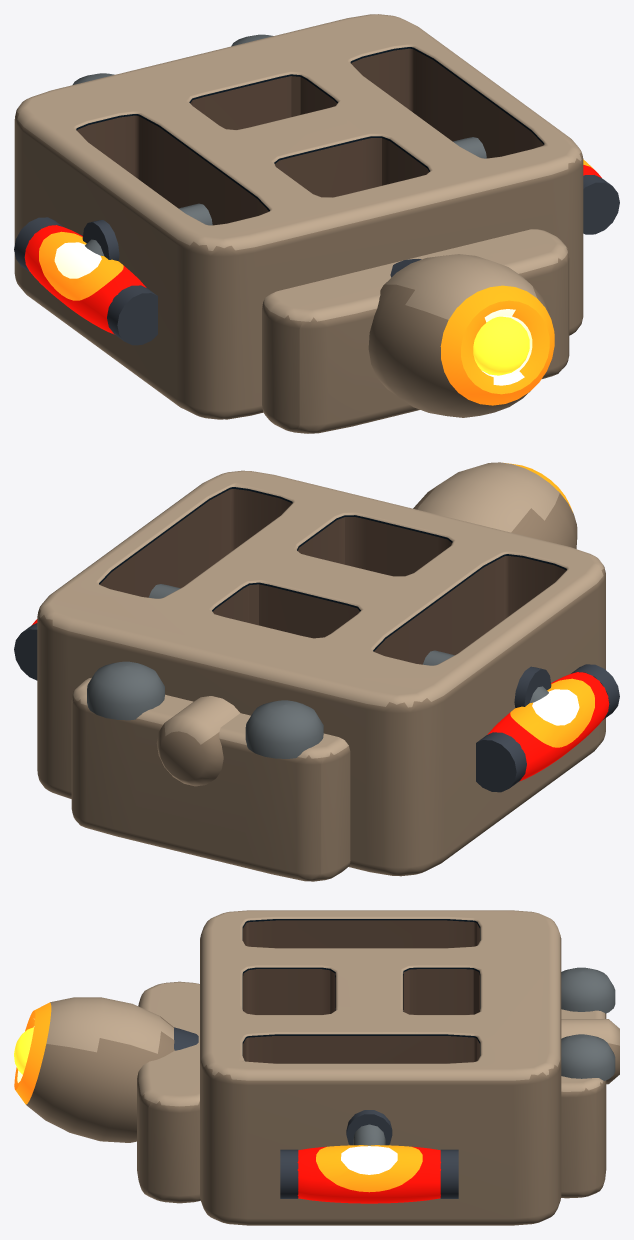
File: cage_turret_279.glb
3 renders of one model, top to bottom at view 1: azimuth 30°, elevation 25°; view 2: azimuth 150°, elevation 25°; view 3: azimuth 270°, elevation 25°, orthographic. The views are drawn at different scales.
Parts seen in each view (by area): view 1: body, chin, gun, lamp0, flash, lamp_cap00, lamp_cap10, collar0, lamp_cap01, pipe0; view 2: body, back, gun, lamp0, stub, knob0, knob1, lamp_cap01, lamp_cap11, collar0, lamp_cap00; view 3: body, gun, chin, lamp1, back, knob1, knob0, stub, lamp_cap11, lamp_cap10, collar1, pipe1 (+1 smaller).
Boxes of the visible parts, x1,y1,x2,y2 form: body: [14, 14, 583, 419]; chin: [262, 229, 569, 433]; gun: [368, 254, 554, 417]; lamp0: [24, 225, 146, 334]; flash: [473, 316, 529, 375]; lamp_cap00: [107, 285, 157, 345]; lamp_cap10: [583, 175, 619, 234]; collar0: [82, 220, 119, 261]; lamp_cap01: [14, 217, 62, 272]; pipe0: [85, 203, 212, 255]; body: [37, 470, 605, 876]; back: [71, 678, 350, 881]; gun: [413, 462, 577, 548]; lamp0: [487, 672, 609, 781]; stub: [156, 696, 239, 786]; knob0: [245, 700, 323, 758]; knob1: [87, 661, 164, 720]; lamp_cap01: [476, 732, 526, 792]; lamp_cap11: [14, 623, 37, 680]; collar0: [514, 666, 551, 707]; lamp_cap00: [571, 664, 619, 719]; body: [200, 910, 561, 1225]; gun: [14, 997, 174, 1142]; chin: [137, 981, 200, 1203]; lamp1: [297, 1145, 440, 1203]; back: [561, 1009, 606, 1198]; knob1: [561, 1034, 615, 1080]; knob0: [561, 967, 615, 1013]; stub: [561, 1019, 619, 1084]; lamp_cap11: [440, 1149, 458, 1198]; lamp_cap10: [280, 1149, 298, 1198]; collar1: [346, 1110, 392, 1145]; pipe1: [353, 1124, 385, 1145].
Size of the model in its own units: 22.61 by 7.6 by 26.84.
